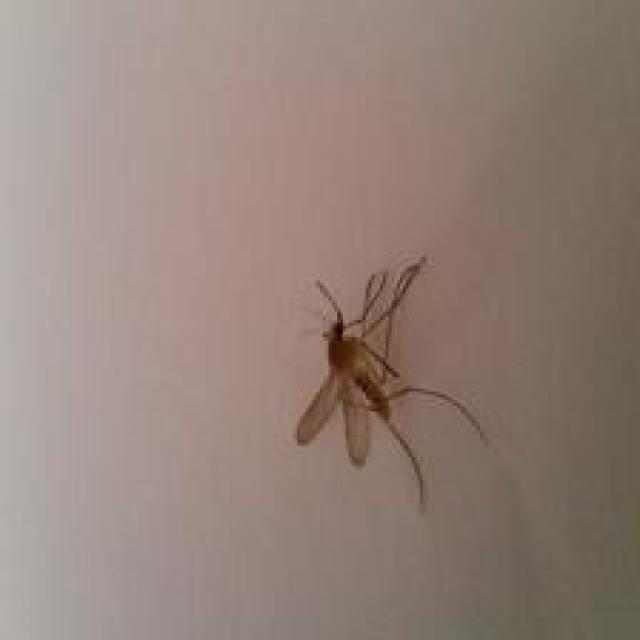Culex: (294, 252, 492, 512)
